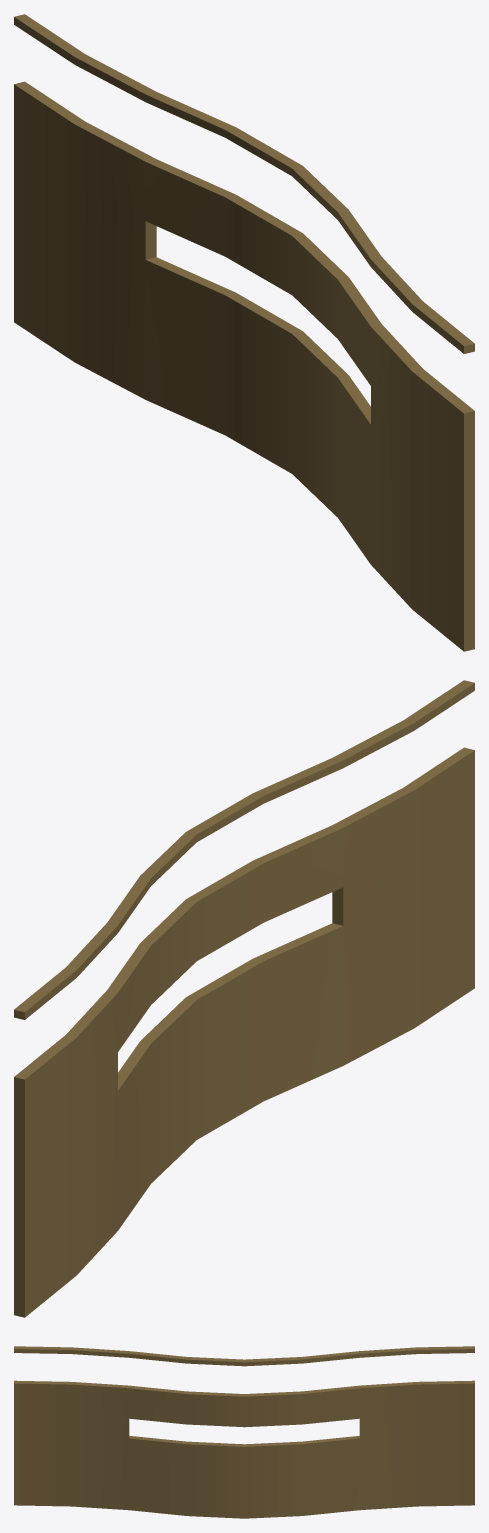
The model's file is misk_fireShield.fbx.
3 renders of one model, top to bottom at view 1: azimuth 30°, elevation 25°; view 2: azimuth 150°, elevation 25°; view 3: azimuth 270°, elevation 25°, orthographic. The views are drawn at different scales.
Parts seen in each view (by area): view 1: fireplaceShield_mesh; view 2: fireplaceShield_mesh; view 3: fireplaceShield_mesh.
Boxes of the visible parts, box(x1,y1,x2,y2) form: fireplaceShield_mesh: box(14, 14, 474, 651); fireplaceShield_mesh: box(14, 680, 474, 1317); fireplaceShield_mesh: box(14, 1346, 474, 1518).
Bounding box in the file's own units: 0.1003 × 0.4572 × 1.22.
